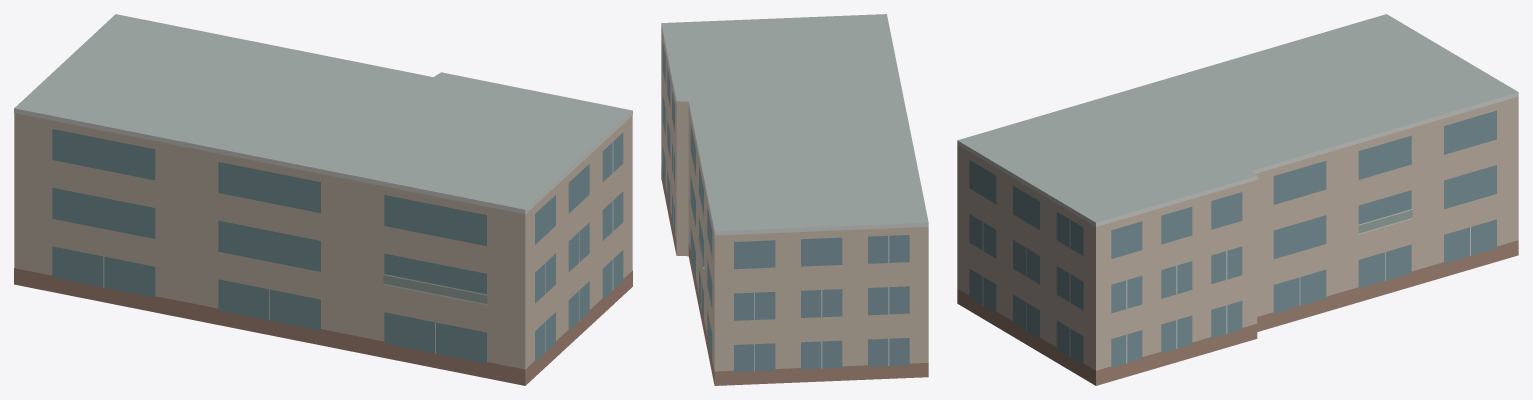
The model's file is survey-upis-32660035.glb.
3 renders of one model, left to right at view 1: azimuth 30°, elevation 25°; view 2: azimuth 150°, elevation 25°; view 3: azimuth 270°, elevation 25°, orthographic. The views are drawn at different scales.
Visible parts, largest first — view 1: survey-upis-32660035.tmp; view 2: survey-upis-32660035.tmp; view 3: survey-upis-32660035.tmp.
Part boxes in pixels (x1,y1,x2,y2): survey-upis-32660035.tmp: (14,14,632,385); survey-upis-32660035.tmp: (661,14,928,385); survey-upis-32660035.tmp: (957,14,1518,385).
Bounding box in the file's own units: 25.11 × 9.15 × 28.54.
